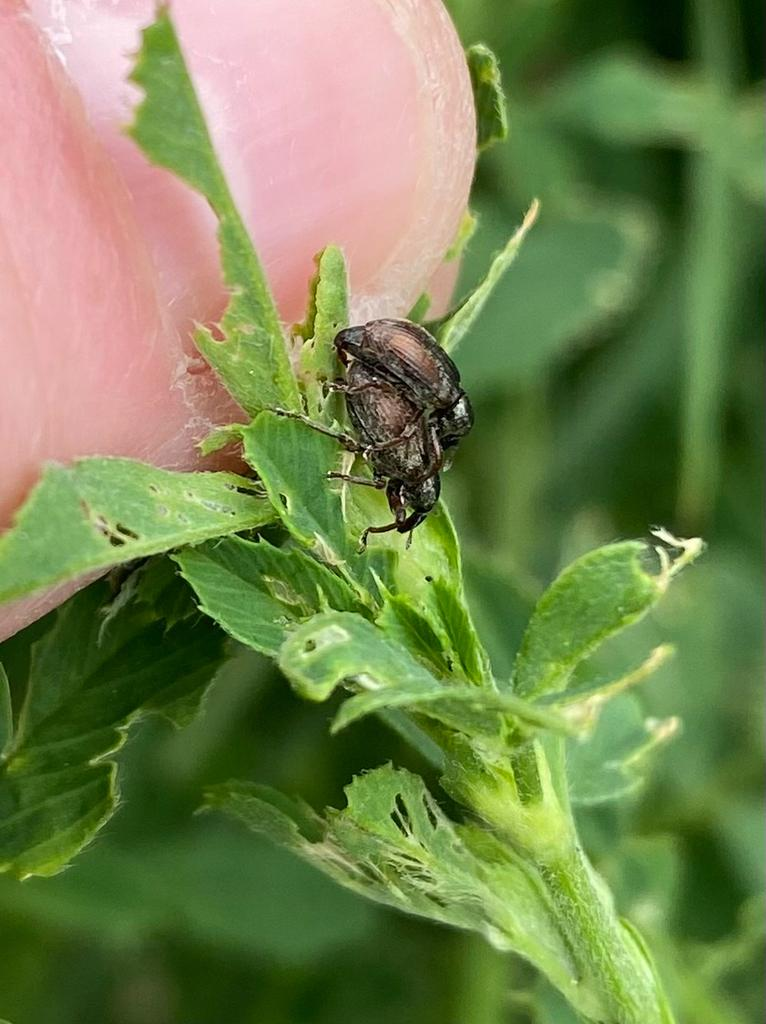weevils: (279, 363, 489, 556), (304, 271, 520, 451)
